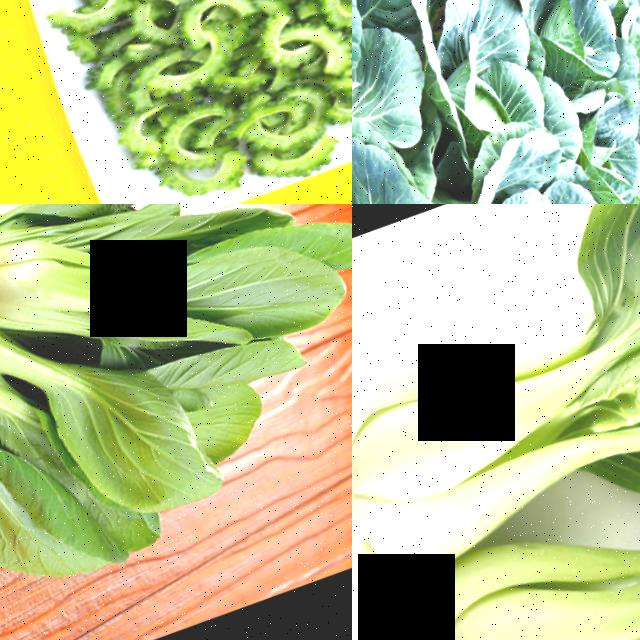bok choy: (352, 204, 640, 614), (357, 419, 640, 640), (0, 204, 287, 389), (0, 241, 206, 490)
cabbage: (400, 6, 579, 197), (477, 0, 640, 125), (554, 94, 640, 204), (452, 163, 630, 204)
